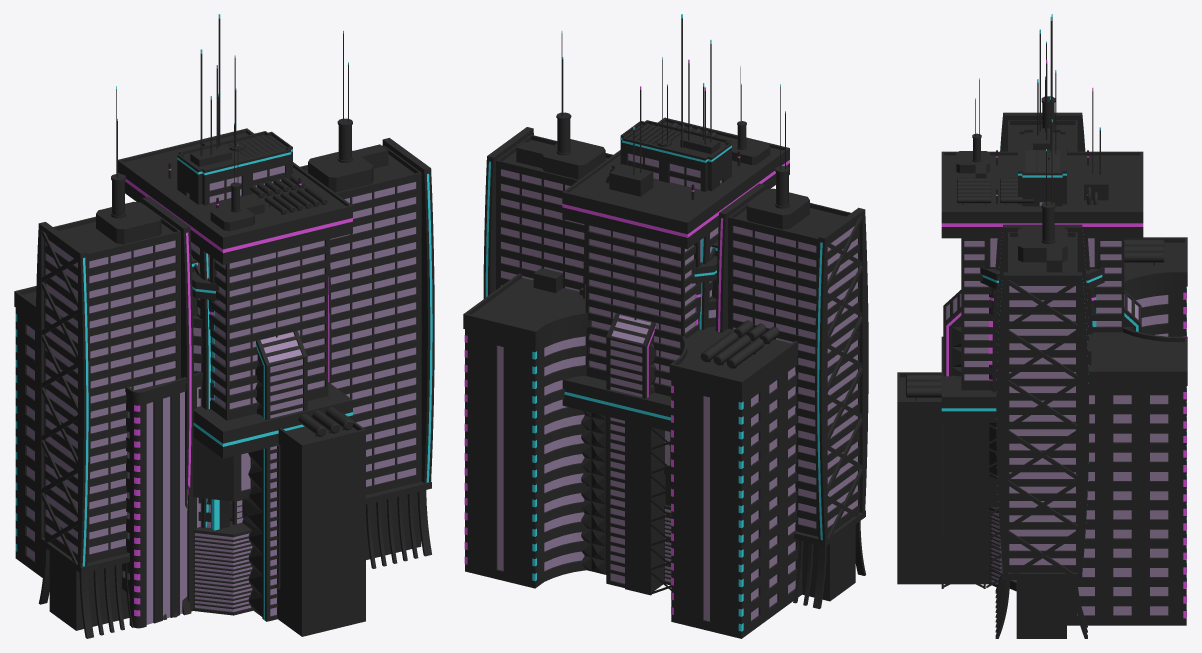
File: buildings.glb
3 renders of one model, left to right at view 1: azimuth 30°, elevation 25°; view 2: azimuth 150°, elevation 25°; view 3: azimuth 270°, elevation 25°, orthographic. The views are drawn at different scales.
Visible parts, largest first — view 1: Neon_Building03, Neon_Building07, Neon_Building08, Neon_Building01, Neon_Building06, Neon_Building09, Neon_Building05, Neon_Building02, Neon_Building10, Neon_Building04; view 2: Neon_Building08, Neon_Building03, Neon_Building07, Neon_Building06, Neon_Building05, Neon_Building09, Neon_Building02, Neon_Building10; view 3: Neon_Building08, Neon_Building03, Neon_Building07, Neon_Building05, Neon_Building06, Neon_Building09, Neon_Building10, Neon_Building02.
Part boxes in pixels (left/top/right/bottom): Neon_Building03: left=35, top=30, right=434, bottom=638; Neon_Building07: left=118, top=93, right=352, bottom=458; Neon_Building08: left=14, top=286, right=365, bottom=636; Neon_Building01: left=122, top=372, right=202, bottom=628; Neon_Building06: left=242, top=331, right=307, bottom=621; Neon_Building09: left=192, top=272, right=253, bottom=615; Neon_Building05: left=177, top=49, right=292, bottom=524; Neon_Building02: left=191, top=55, right=244, bottom=528; Neon_Building10: left=168, top=14, right=301, bottom=530; Neon_Building04: left=191, top=260, right=232, bottom=528; Neon_Building08: left=463, top=268, right=802, bottom=638; Neon_Building03: left=483, top=31, right=868, bottom=608; Neon_Building07: left=562, top=66, right=789, bottom=595; Neon_Building06: left=606, top=313, right=656, bottom=587; Neon_Building05: left=620, top=39, right=731, bottom=191; Neon_Building09: left=664, top=256, right=717, bottom=585; Neon_Building02: left=657, top=57, right=718, bottom=329; Neon_Building10: left=612, top=14, right=740, bottom=325; Neon_Building08: left=897, top=237, right=1187, bottom=625; Neon_Building03: left=995, top=14, right=1089, bottom=638; Neon_Building07: left=941, top=78, right=1143, bottom=588; Neon_Building05: left=1010, top=29, right=1066, bottom=580; Neon_Building06: left=943, top=290, right=1141, bottom=376; Neon_Building09: left=980, top=267, right=1104, bottom=588; Neon_Building10: left=984, top=16, right=1100, bottom=380; Neon_Building02: left=992, top=70, right=1092, bottom=503.
Size of the model in its own units: 68.03 by 104 by 51.26.
